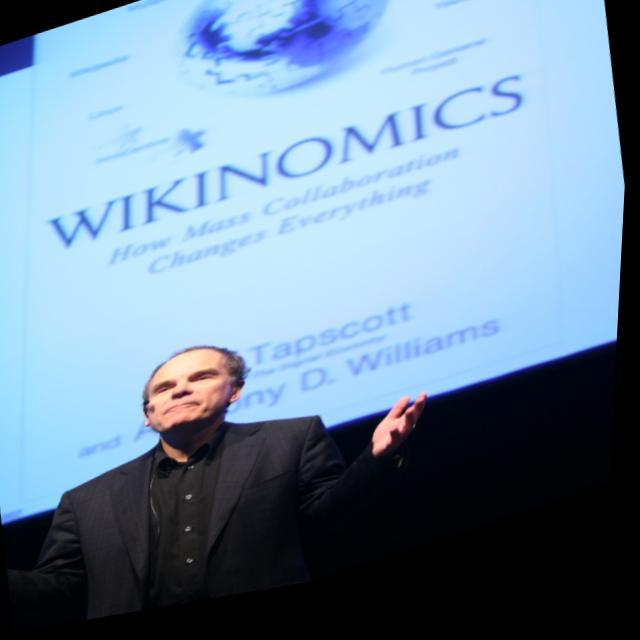Nonhelmet: (136, 340, 251, 446)
